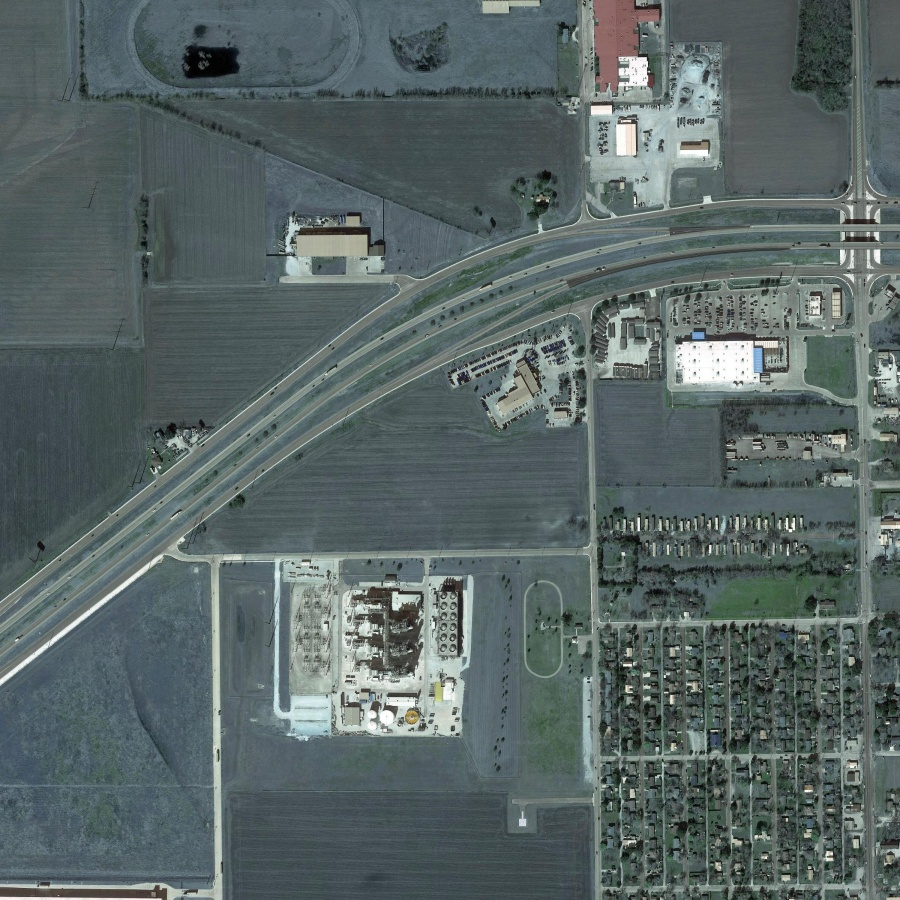PowerPlant: (276, 554, 470, 743)
